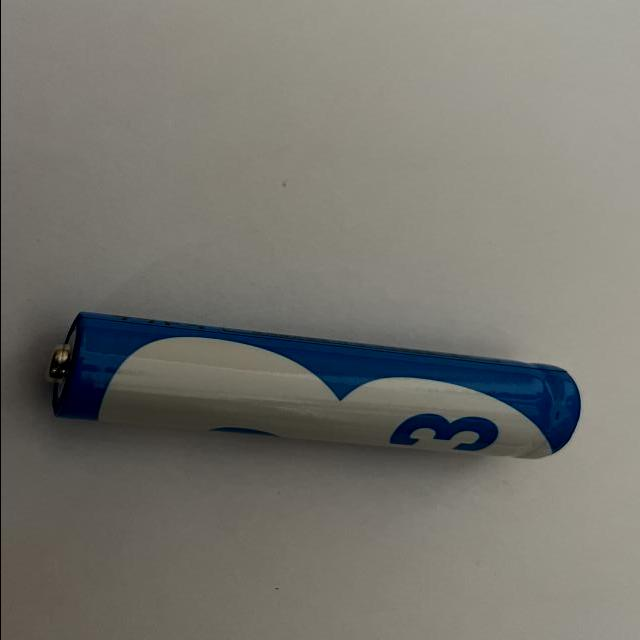AA: (38, 310, 579, 461)
